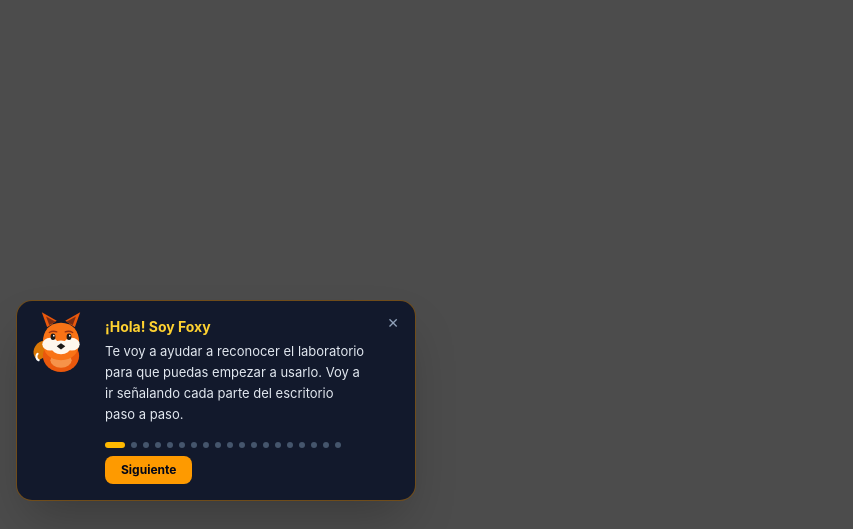
Test: FoxyTour › vuelve atrás con el botón Atrás
Click the button "Siguiente" at (149, 470), box [105,456,192,484]
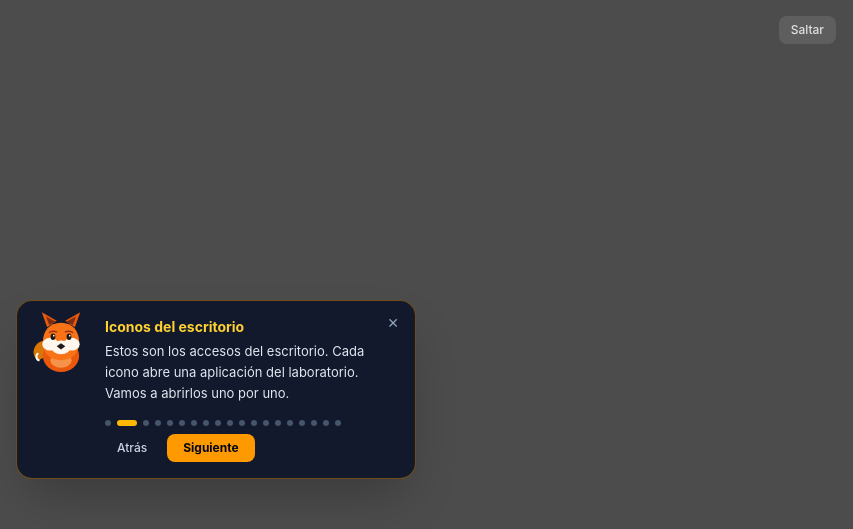
Click the button "Atrás" at (132, 448), box [105,434,159,462]
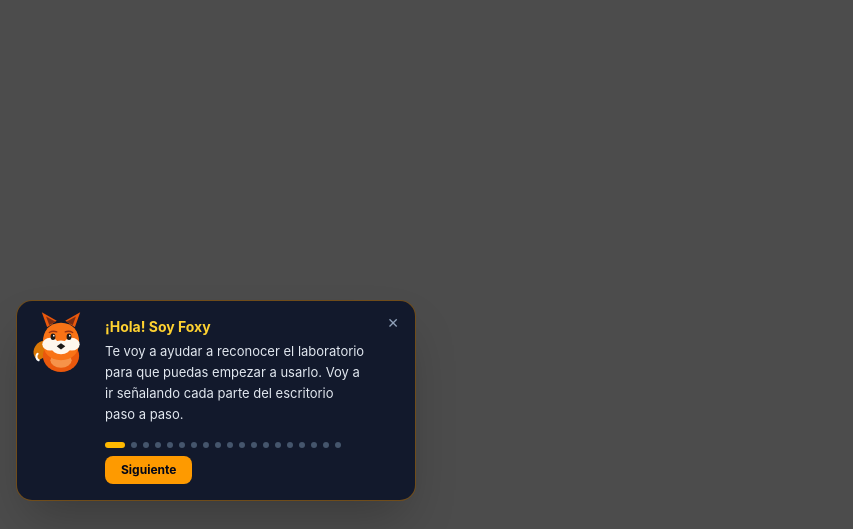
Expected: the text "¡Hola! Soy Foxy" is shown, [105,318,211,335]
